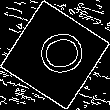O_W: (25, 28, 85, 82)
